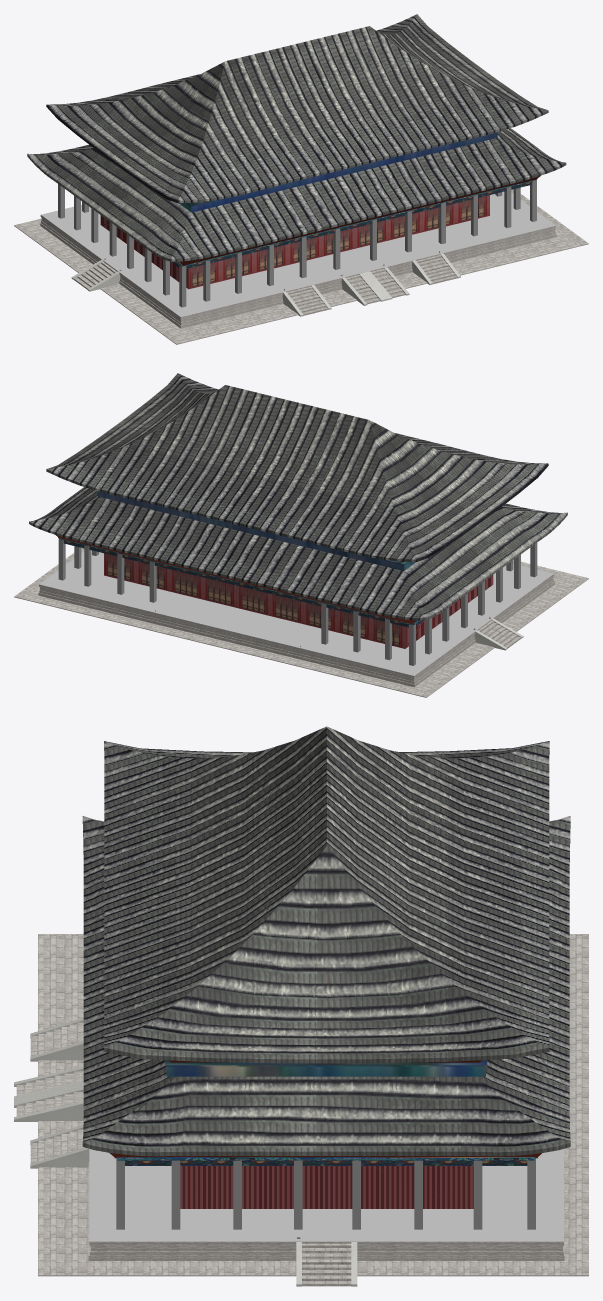
The model's file is 正面大殿.FBX.
3 renders of one model, top to bottom at view 1: azimuth 30°, elevation 25°; view 2: azimuth 150°, elevation 25°; view 3: azimuth 270°, elevation 25°, orthographic. The views are drawn at different scales.
Visible parts, largest first — view 1: Group286, 大明殿_顶a02, 大明殿_底基01, Plane001, Rectangle2071, 大明殿_柱子（外）02, 大明殿02, 大明殿_底基_蹋步边02, 大明殿_梁a02; view 2: Group286, 大明殿_顶a02, 大明殿_底基01, Plane001, Rectangle2073, 大明殿_柱子（外）02, 大明殿02, 大明殿_梁a02, Rectangle2071; view 3: Group286, 大明殿_顶a02, 大明殿_底基01, Plane001, Rectangle2071, 大明殿_柱子（外）02, 大明殿02, 大明殿_底基_蹋步边02, 大明殿_梁a02.
Boxes of the visible parts, <box> form: Group286: <box>46,14,548,265</box>; 大明殿_顶a02: <box>27,128,566,261</box>; 大明殿_底基01: <box>14,189,588,344</box>; Plane001: <box>41,191,555,316</box>; Rectangle2071: <box>100,195,489,289</box>; 大明殿_柱子（外）02: <box>58,180,536,307</box>; 大明殿02: <box>179,132,497,212</box>; 大明殿_底基_蹋步边02: <box>71,253,460,316</box>; 大明殿_梁a02: <box>171,179,537,268</box>; Group286: <box>46,373,548,624</box>; 大明殿_顶a02: <box>29,487,567,620</box>; 大明殿_底基01: <box>14,548,588,697</box>; Plane001: <box>39,550,553,675</box>; Rectangle2073: <box>104,553,405,648</box>; 大明殿_柱子（外）02: <box>58,538,537,665</box>; 大明殿02: <box>97,491,415,570</box>; 大明殿_梁a02: <box>58,537,423,627</box>; Rectangle2071: <box>405,575,493,648</box>; Group286: <box>104,726,549,1157</box>; 大明殿_顶a02: <box>82,816,570,1156</box>; 大明殿_底基01: <box>16,934,588,1286</box>; Plane001: <box>89,1149,563,1241</box>; Rectangle2071: <box>180,1166,473,1208</box>; 大明殿_柱子（外）02: <box>116,1158,535,1229</box>; 大明殿02: <box>165,1060,487,1076</box>; 大明殿_底基_蹋步边02: <box>14,1018,357,1286</box>; 大明殿_梁a02: <box>115,1157,537,1165</box>.
Size of the model in its own units: 1493 by 617 by 1007.
